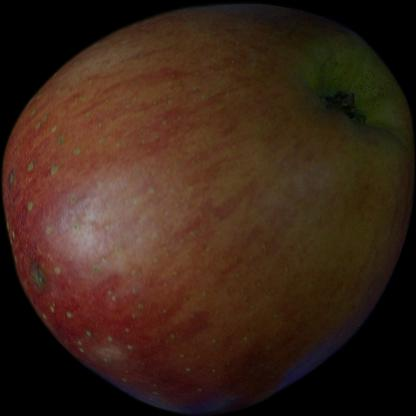defect: (11, 94, 65, 328)
